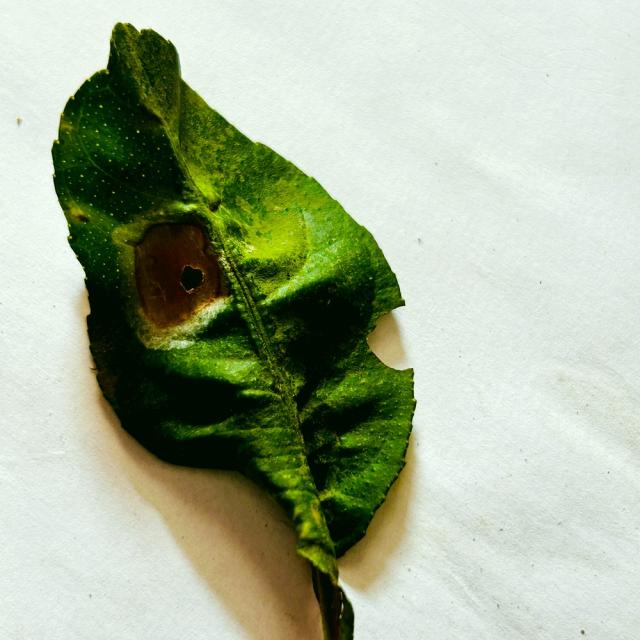Deficiency Leaf: (150, 462, 306, 580), (134, 223, 228, 330), (367, 307, 420, 369)
Lemon: (52, 24, 415, 639)
